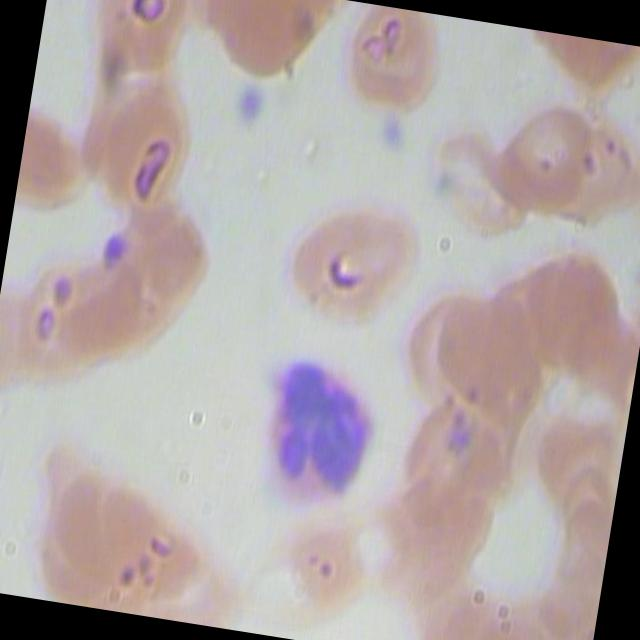Platelets: (229, 79, 275, 139), (367, 103, 413, 163)
RBC: (283, 185, 430, 337), (84, 69, 205, 228), (516, 238, 636, 386), (412, 117, 538, 245), (326, 0, 453, 126), (270, 498, 380, 624), (95, 479, 204, 604), (45, 459, 154, 584), (488, 96, 597, 220), (431, 290, 540, 414), (196, 0, 314, 89), (87, 0, 198, 79)
WBC: (248, 341, 396, 527)
